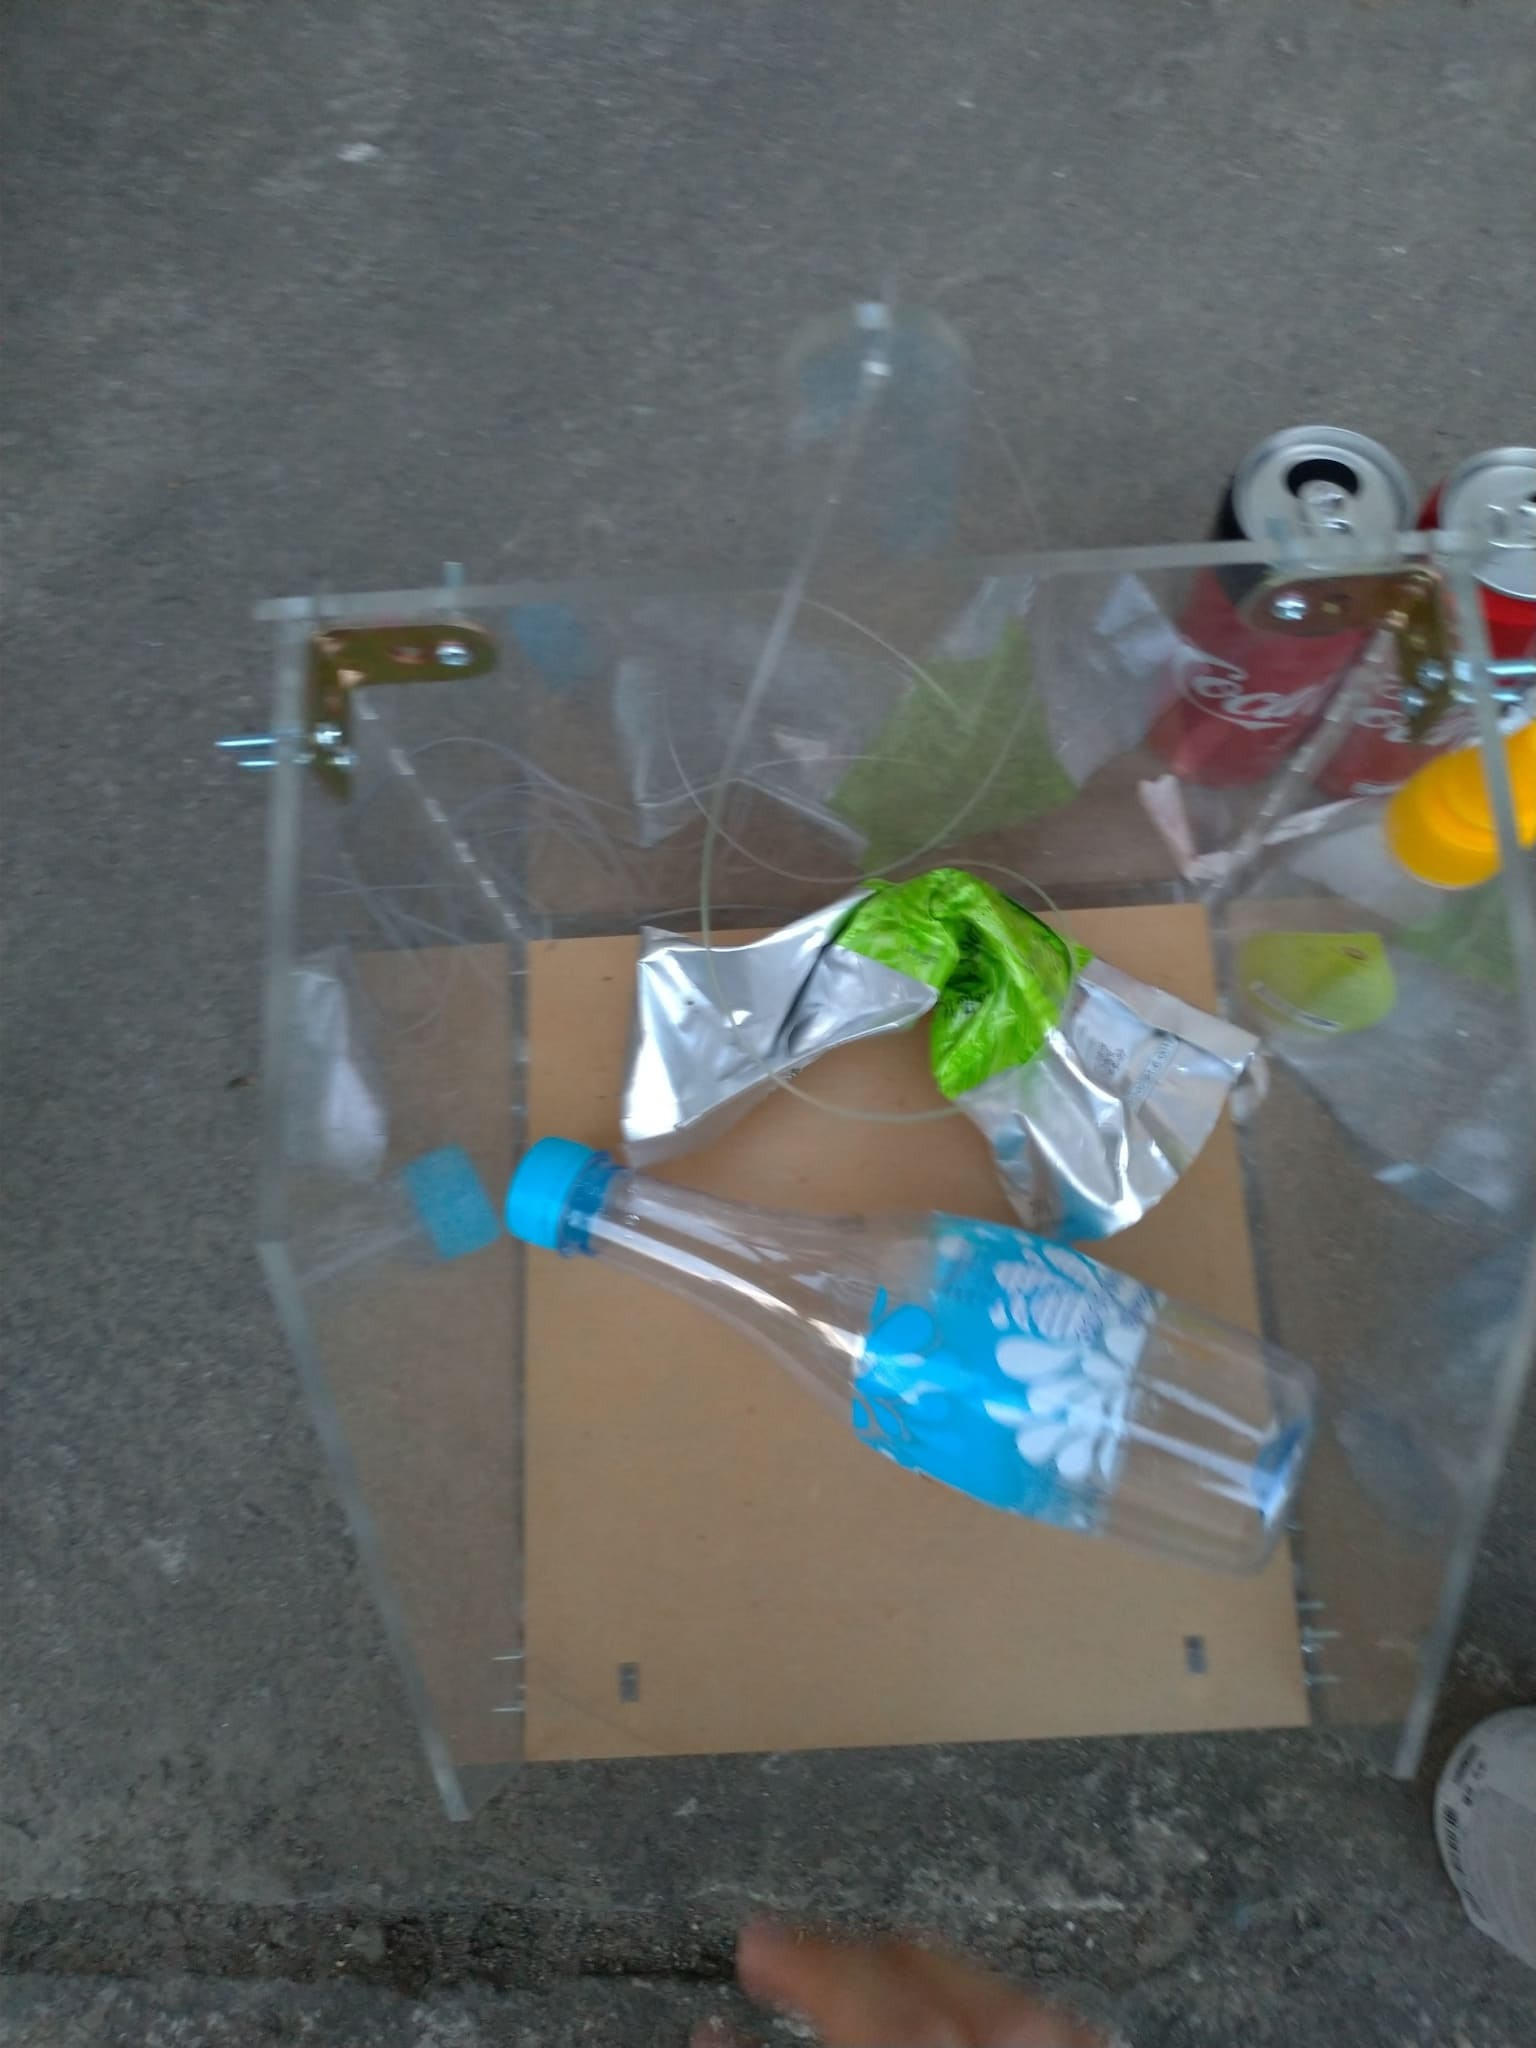AlCan: (1149, 431, 1412, 789), (1325, 447, 1536, 789)
Others: (616, 871, 1242, 1243)
PlasticBottle: (499, 1142, 1313, 1572), (1220, 731, 1536, 1059)
